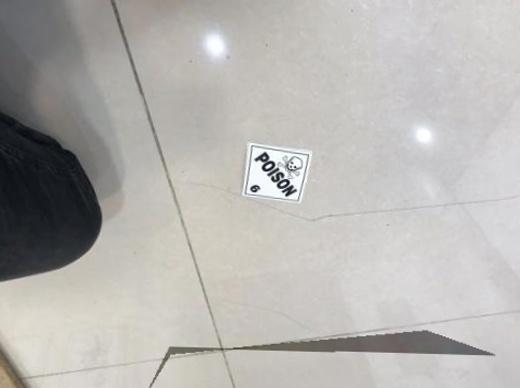poison: (238, 143, 313, 203)
